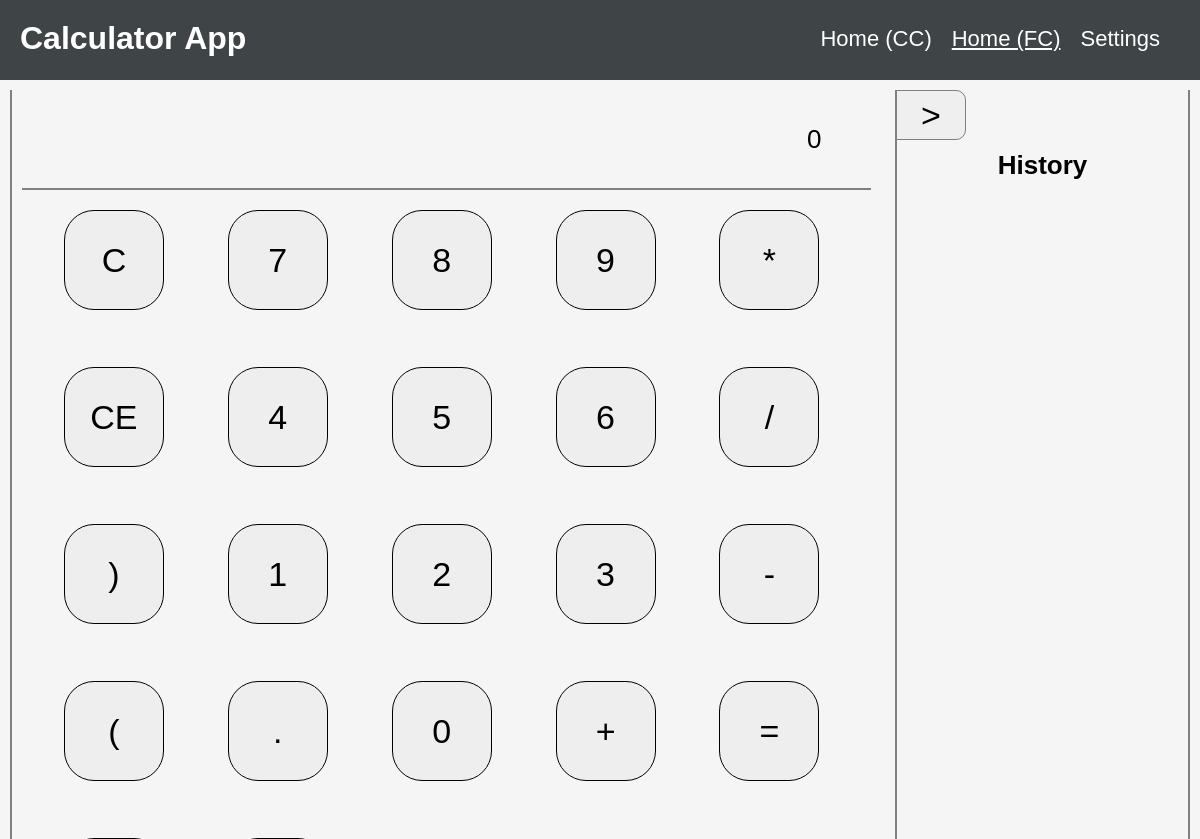
Test: Display test › Numbers and operands input › Show current number
This screenshot has width=1200, height=839.
Click the button with test id "button-3" at (606, 574), box x1=556 y1=524 x2=656 y2=624
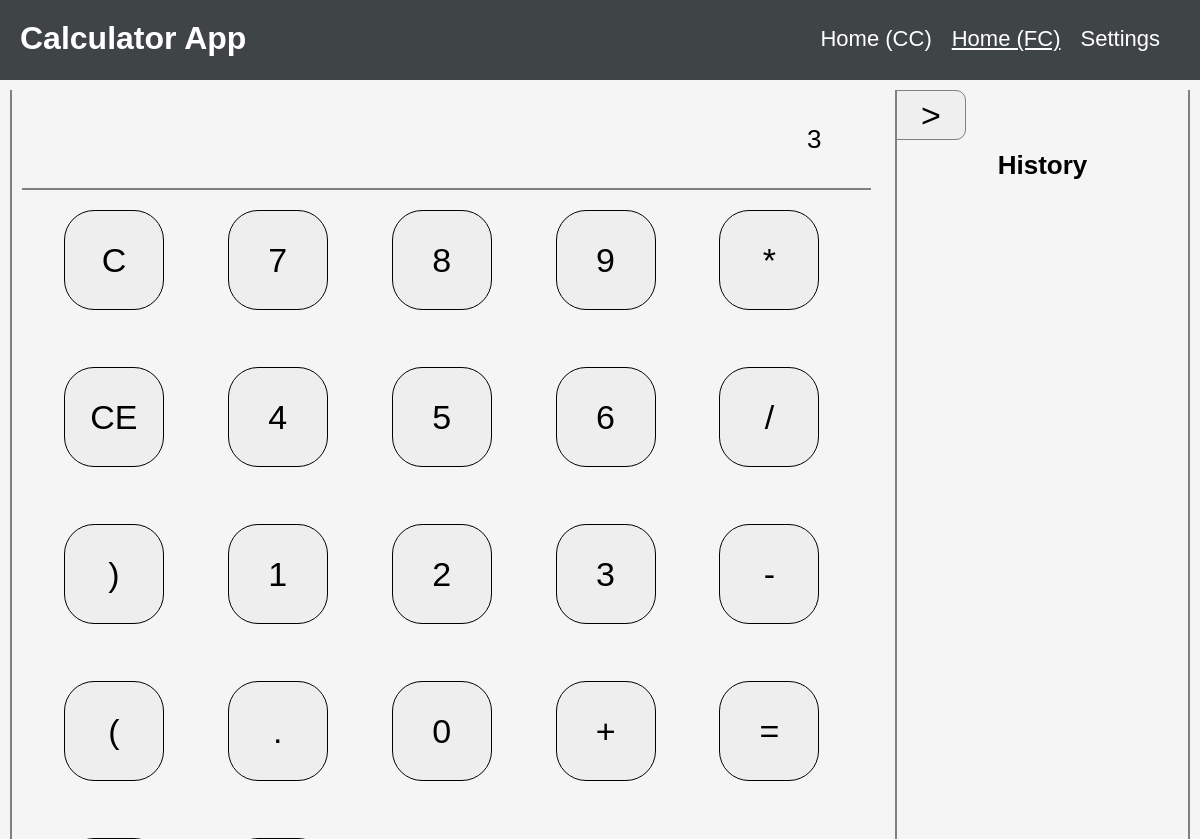
Expected: the text "3" is shown, x1=807 y1=124 x2=821 y2=154
Click the button with test id "button-2" at (442, 574), box x1=392 y1=524 x2=492 y2=624
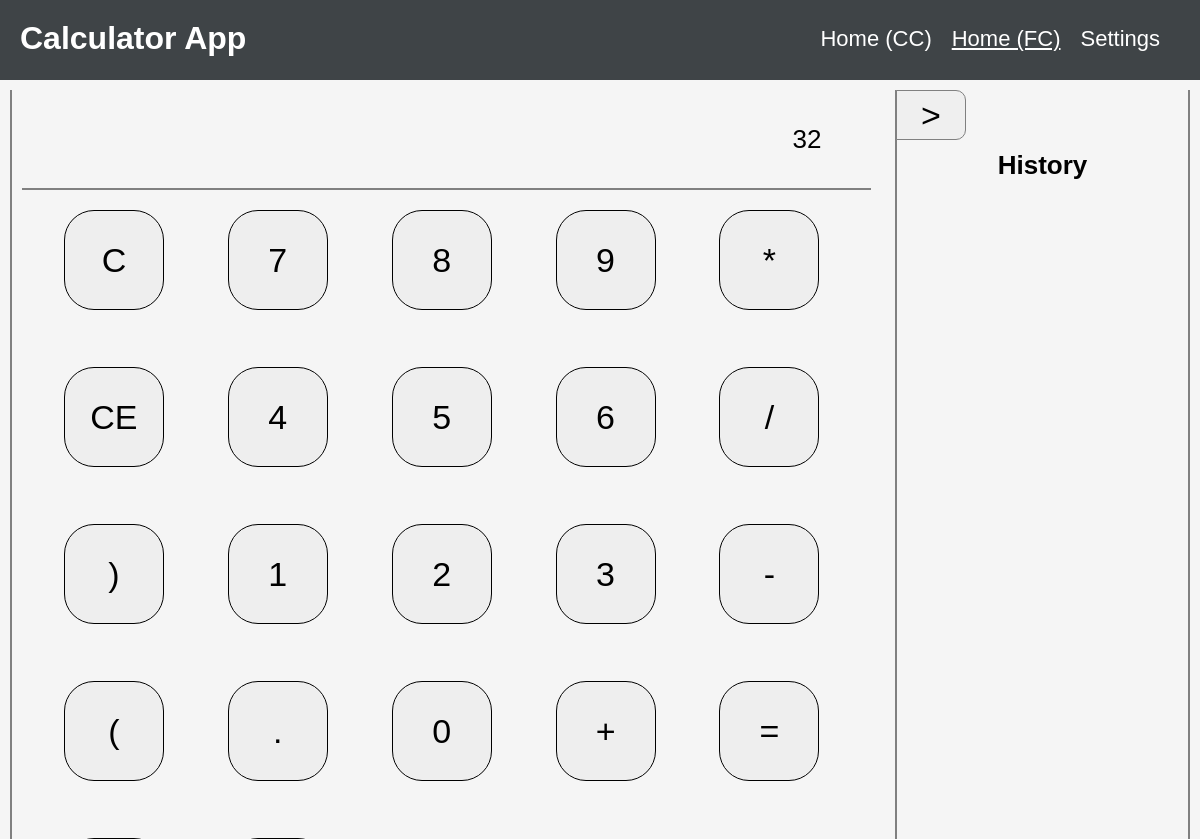
Click the button with test id "button-4" at (278, 417), box x1=228 y1=367 x2=328 y2=467
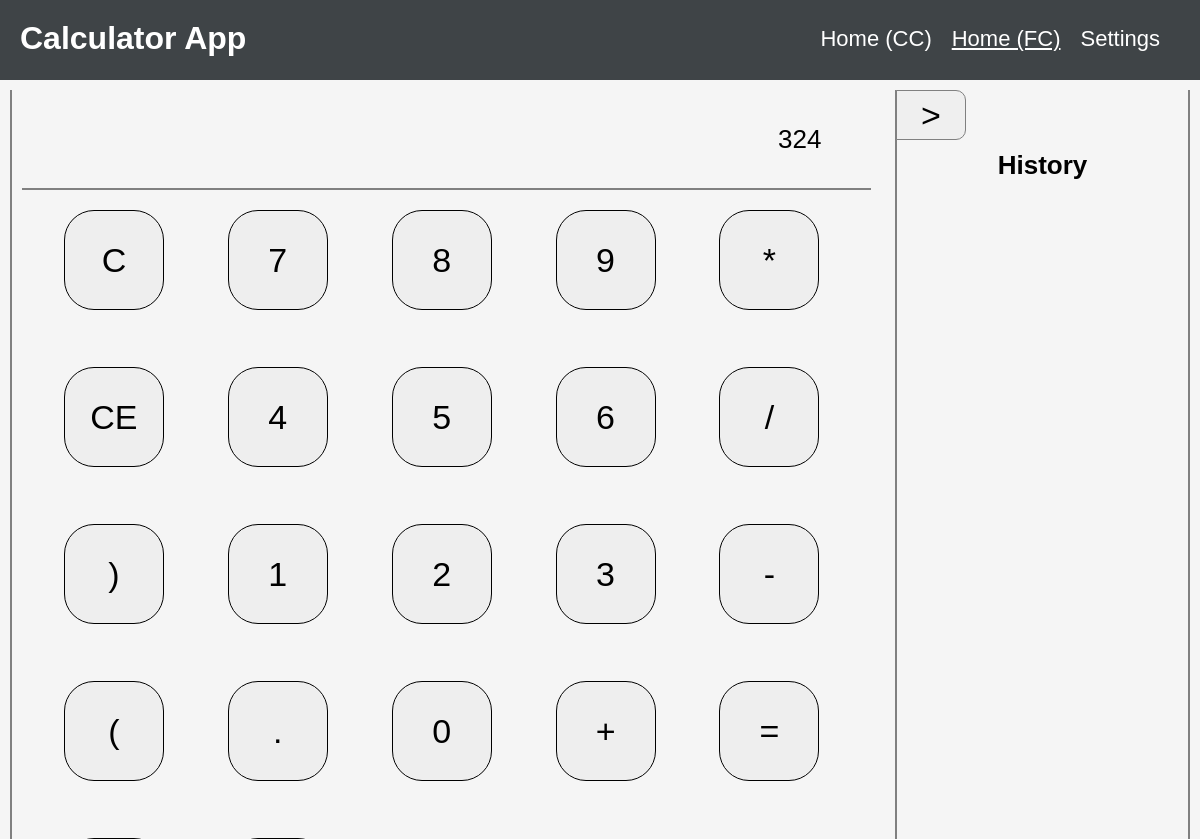
Expected: the text "324" is shown, x1=778 y1=124 x2=821 y2=154
